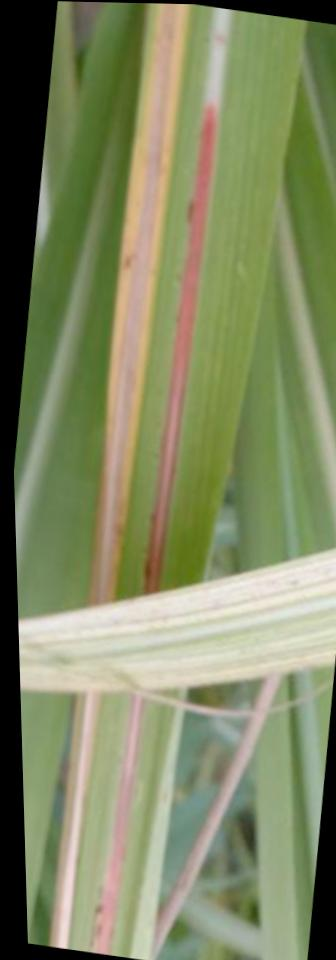RedRot: (143, 96, 218, 594), (94, 695, 144, 954)
Yellow: (83, 3, 188, 605), (47, 691, 104, 949)
